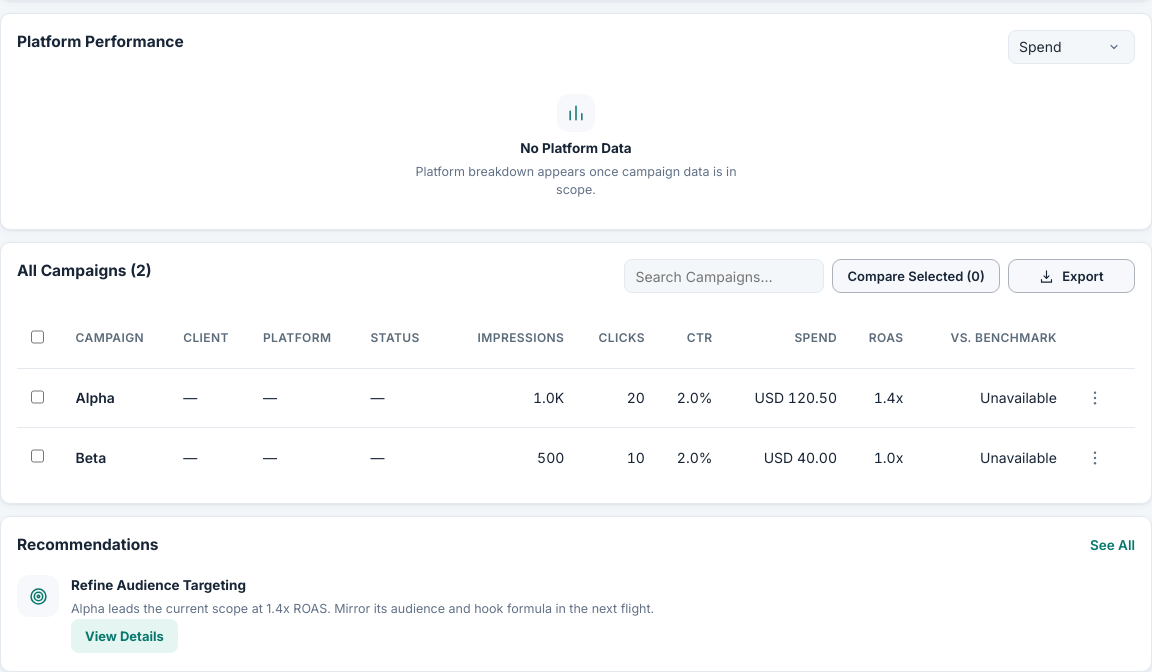
Scenario: CampaignsPage › opens campaign details with totals and recommendations
(page scrolled)
Expected: the heading "All Campaigns (2)" is shown, x1=17 y1=261 x2=152 y2=280
Click the button named "Details for Alpha" at x=1095, y=398, box x1=1077 y1=380 x2=1113 y2=416
(page scrolled)
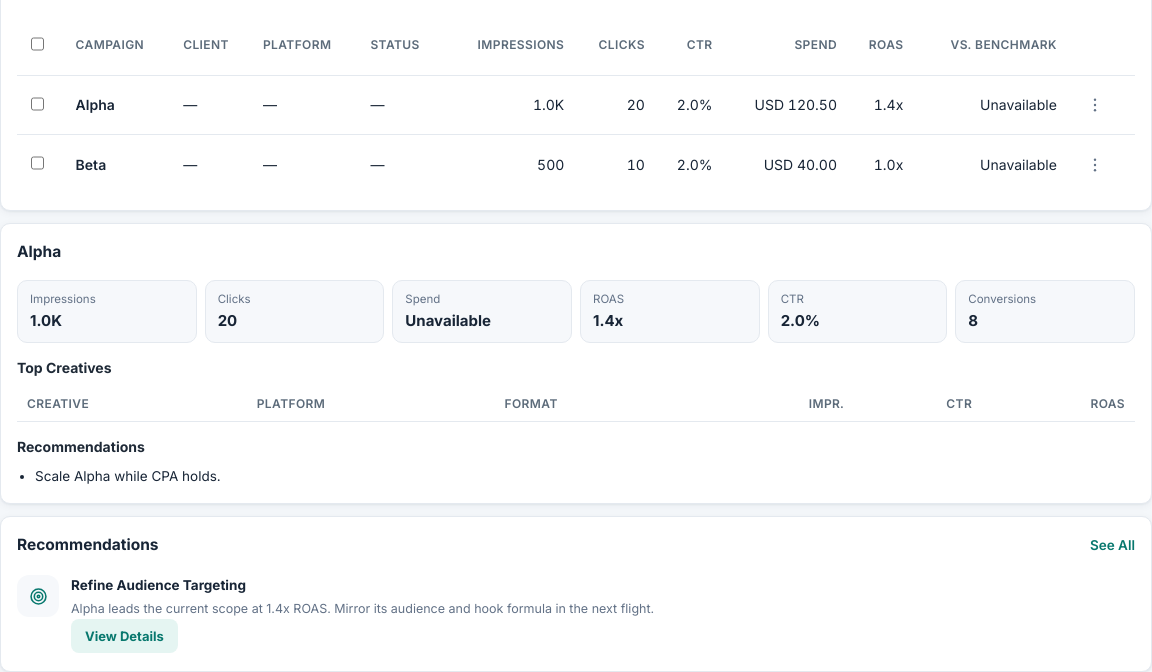
Expected: the heading "Top Creatives" is shown, x1=17 y1=359 x2=112 y2=376
Expected: the list item "Scale Alpha while CPA holds." is shown, x1=35 y1=468 x2=221 y2=484
